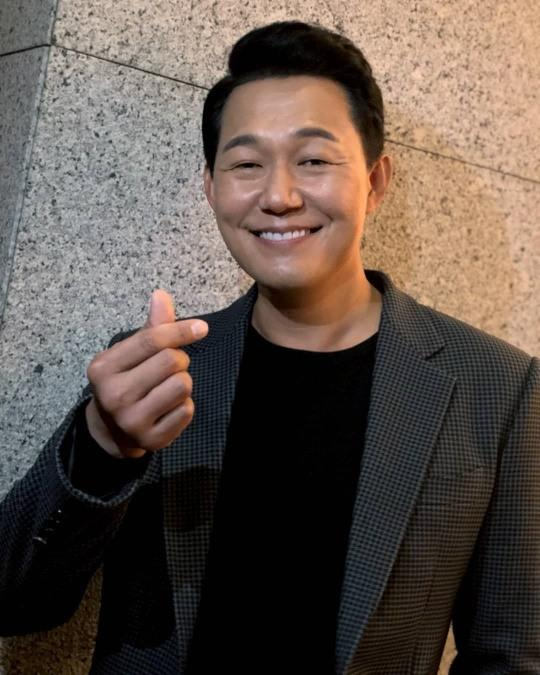heart gesture: (147, 287, 211, 348)
